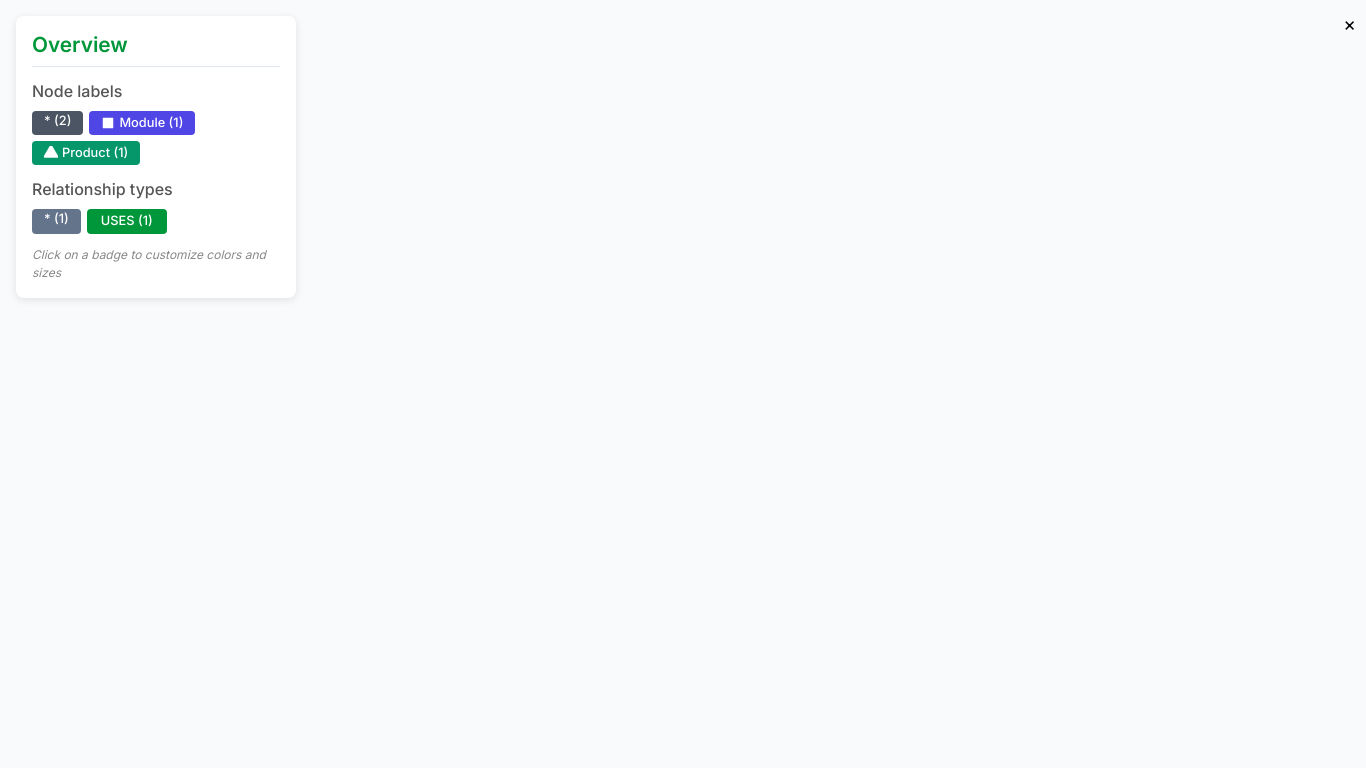
Test case: Legend › opens ColorPickerModal when relationship badge is clicked
Click the text "USES (1)" at (127,221), box [87, 209, 167, 234]
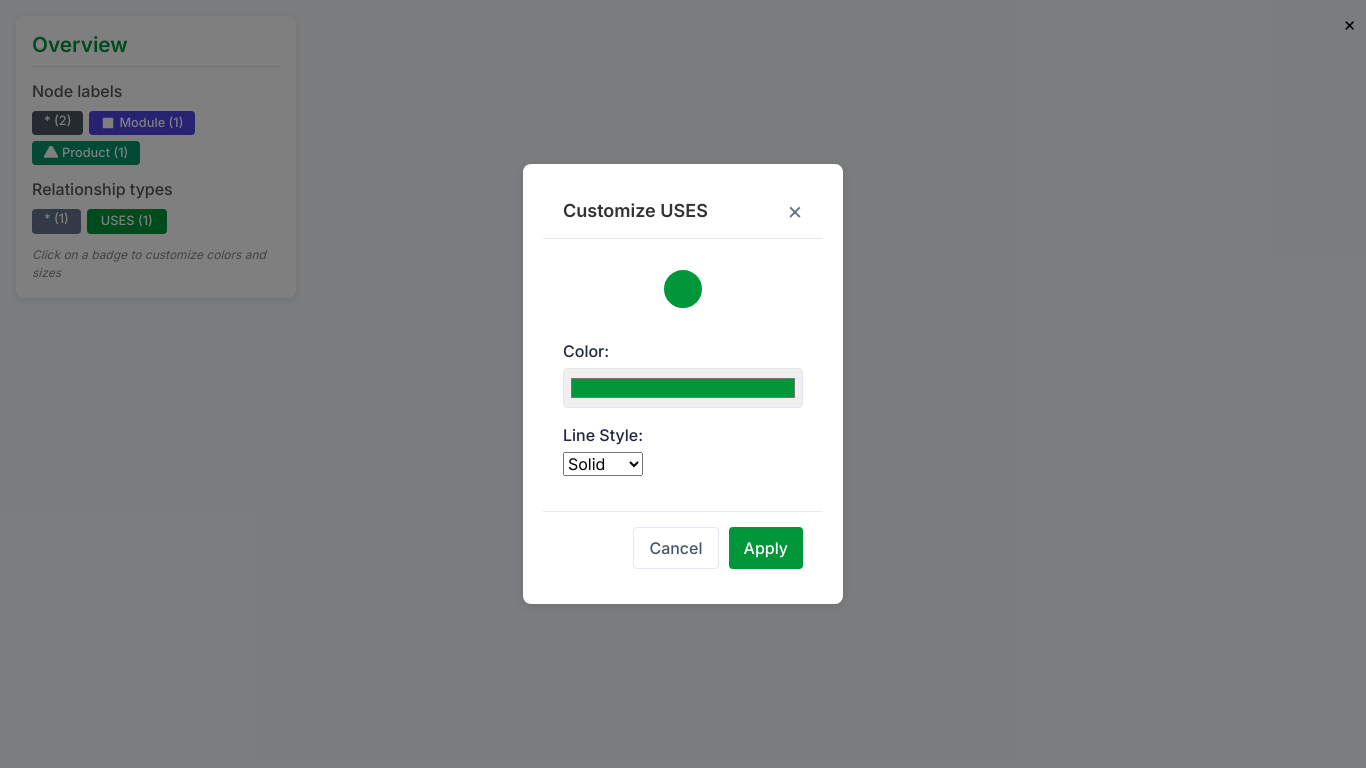
Now the heading "Customize USES" is shown, box [563, 200, 708, 222]
